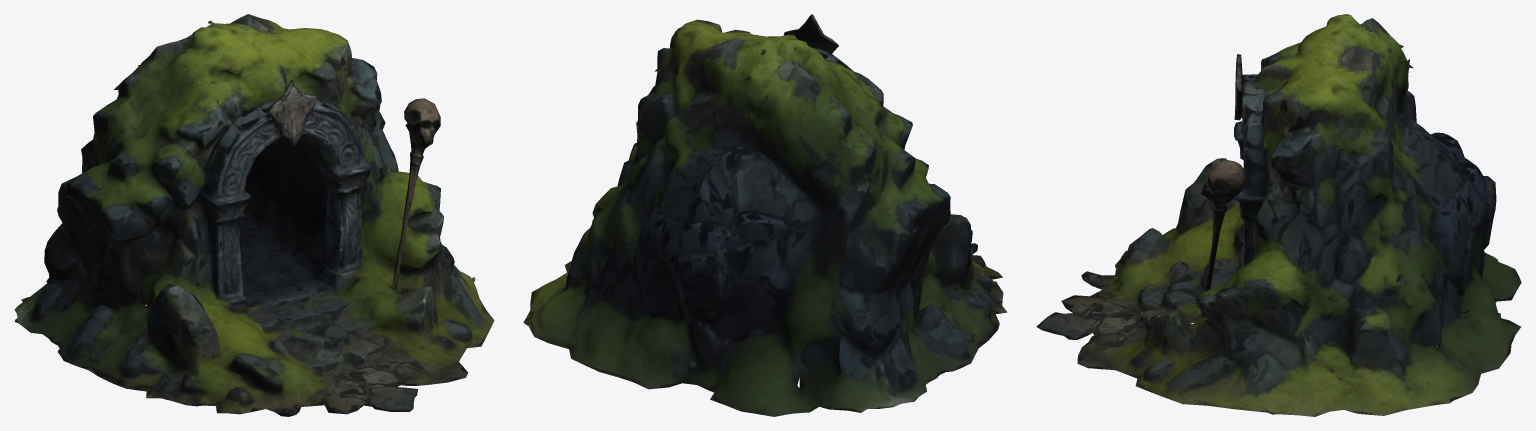
The model's file is dungeon.glb.
The picture shows the model from 3 angles, left to right: view 1: azimuth 30°, elevation 25°; view 2: azimuth 150°, elevation 25°; view 3: azimuth 270°, elevation 25°; orthographic projection. The views are drawn at different scales.
Parts seen in each view (by area): view 1: geometry_0; view 2: geometry_0; view 3: geometry_0.
Boxes of the visible parts, bbox=[...] form: geometry_0: bbox=[14, 14, 494, 416]; geometry_0: bbox=[523, 14, 1007, 416]; geometry_0: bbox=[1036, 14, 1521, 416].
Bounding box in the file's own units: 0.9295 × 0.6447 × 0.9863.
Materials: 1 (1 with a texture image).
